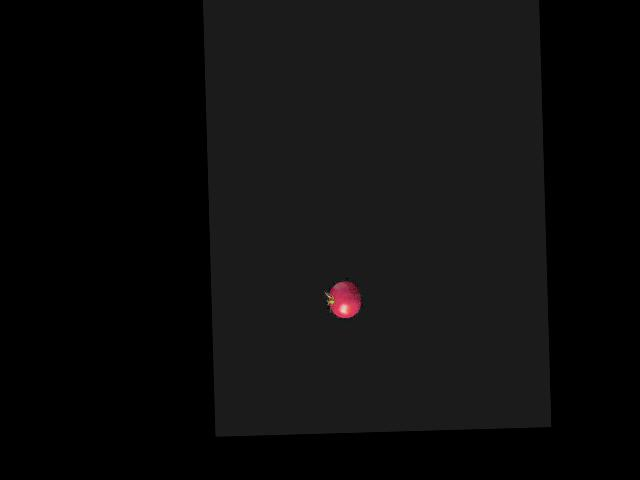tomato: (329, 280, 360, 318)
